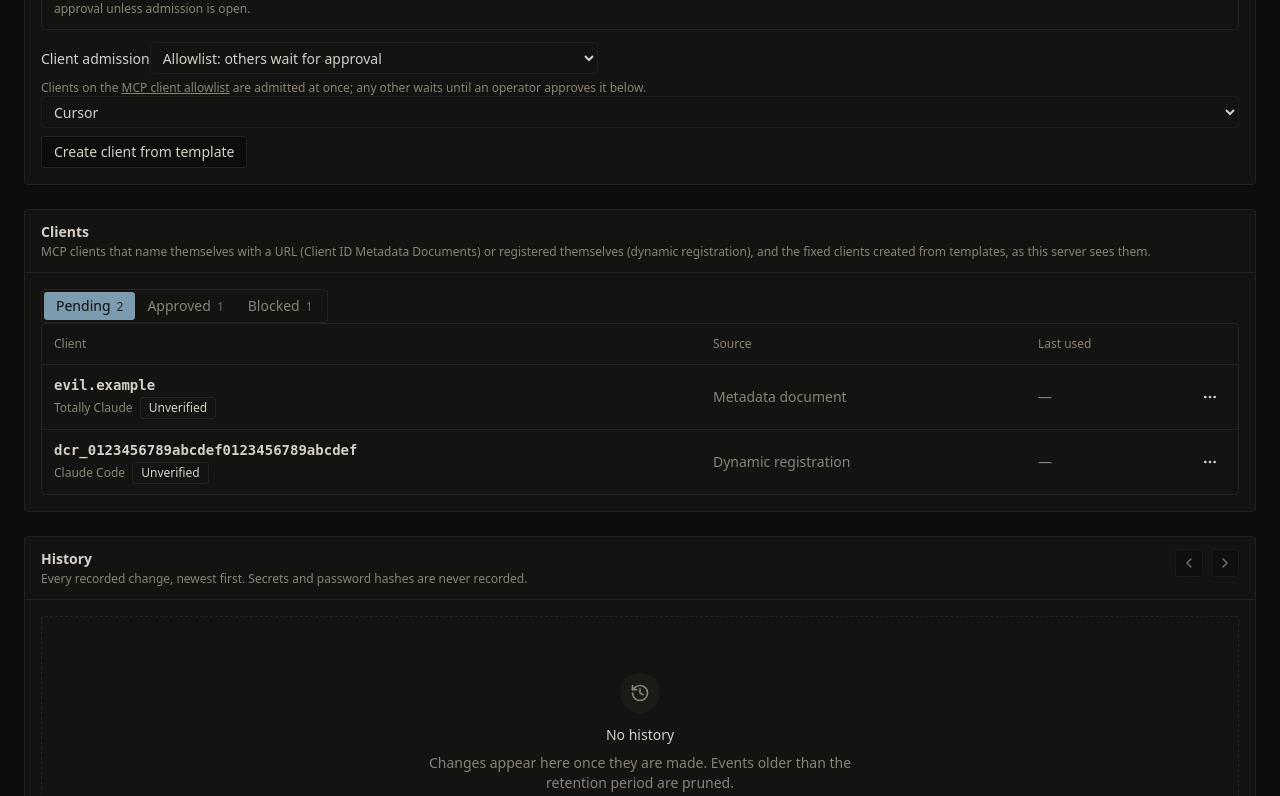
Test case: refreshes the list and says so when the document changed before the approval (409)
The width and height of the screenshot is (1280, 796).
(page scrolled)
Expected: the text "evil.example" is shown, [54,376,155,392]
Click the button named "Actions for evil.example" at [1210, 396], box [1194,380,1226,412]
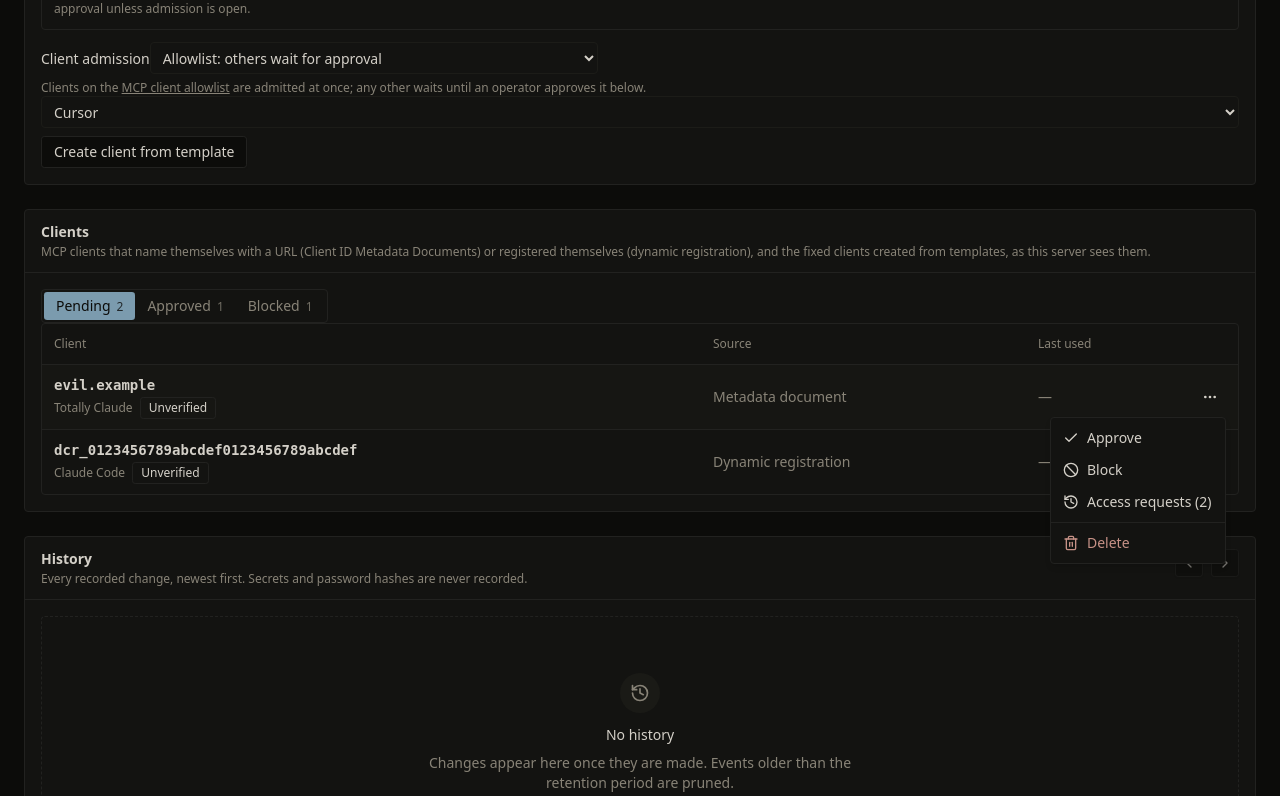
Click the menu item "Approve" at [1102, 438], box [1063,428,1142,447]
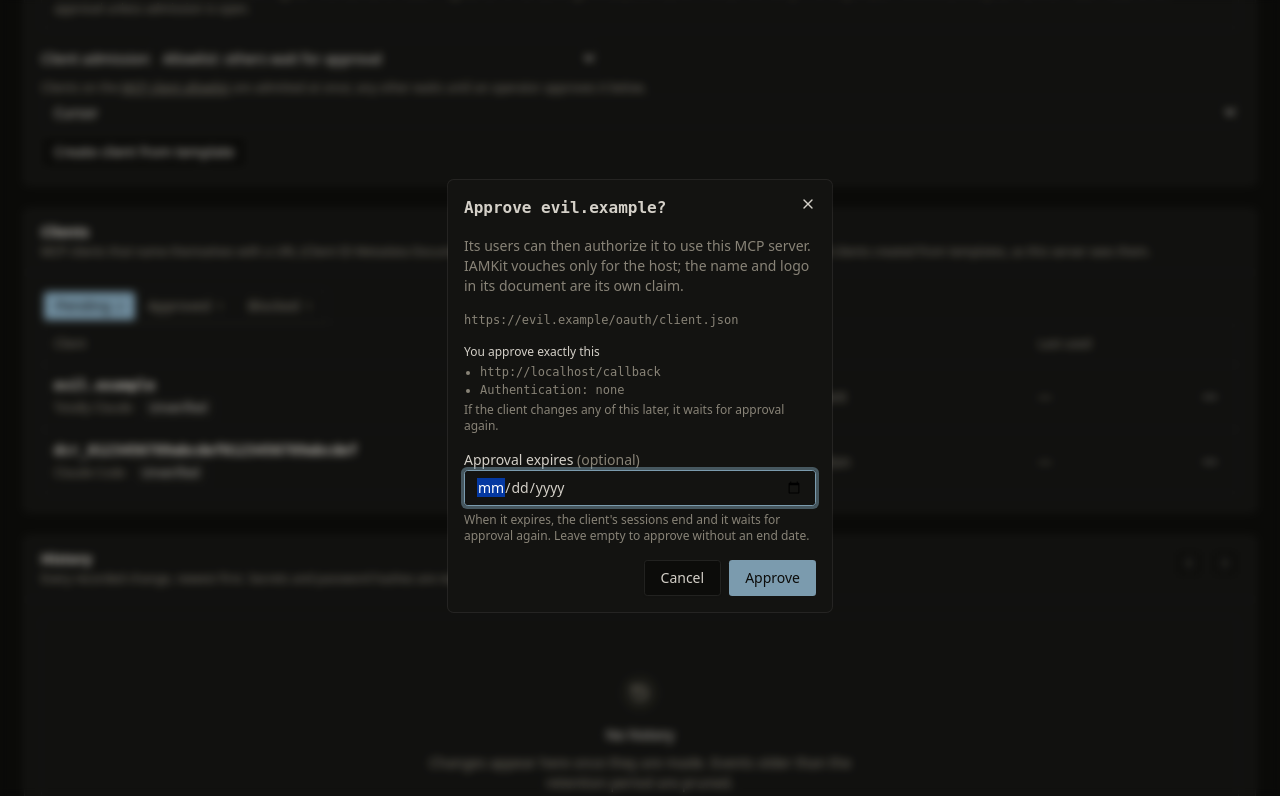
Expected: the list item "http://localhost/callback" is shown, [480,365,661,379]
Click the button "Approve" at [773, 578], box [729,560,816,596]
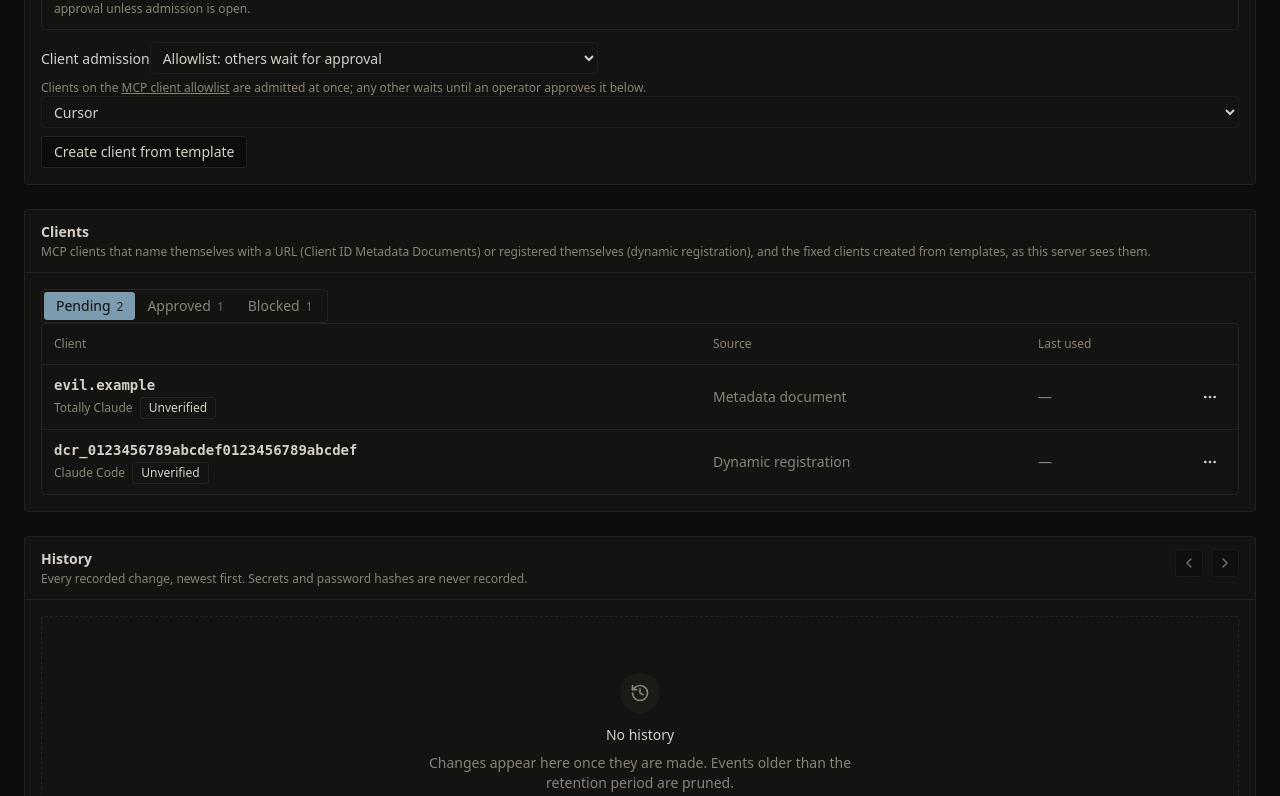
Expected: the dialog is gone
